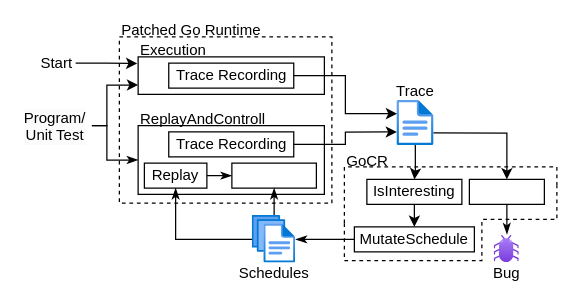
Image size: 580x303. Some labels were removed from this diagram. The shapes that lost their labels are listed below. From the top down, each one's centre as x and y in pixels, then its label:
the point at 273,175: Schedule
the point at 506,191: IsBuggy
